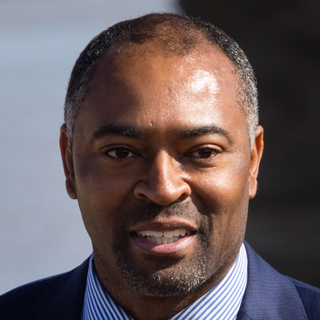eye: (98, 142, 143, 166), (180, 142, 224, 164)
